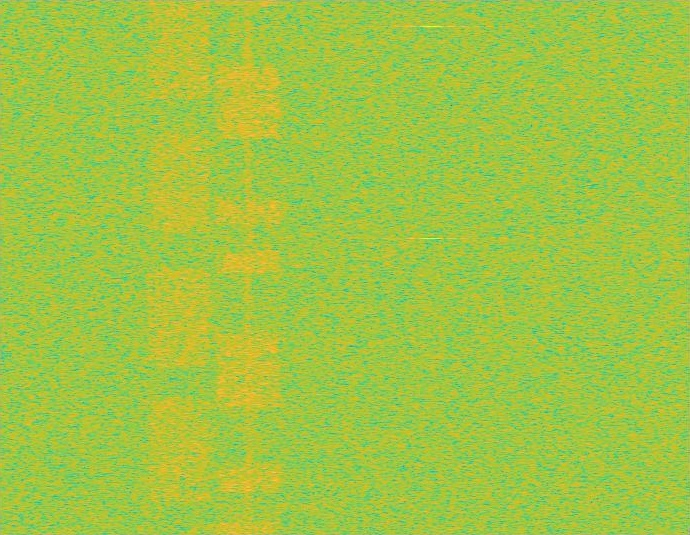5G: (145, 0, 214, 534)
DSSS: (244, 0, 253, 534)
LTE: (214, 0, 283, 534)
Radar: (424, 0, 438, 534)
